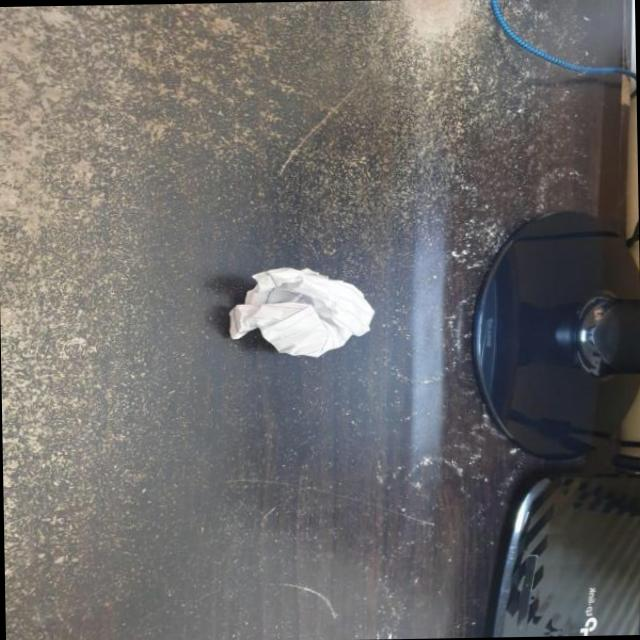cardboard paper: (231, 268, 375, 356)
